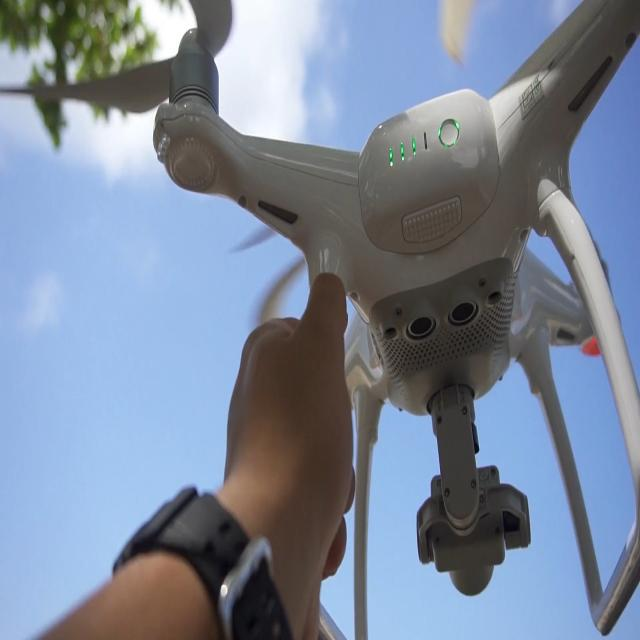Drone: (138, 5, 640, 595)
